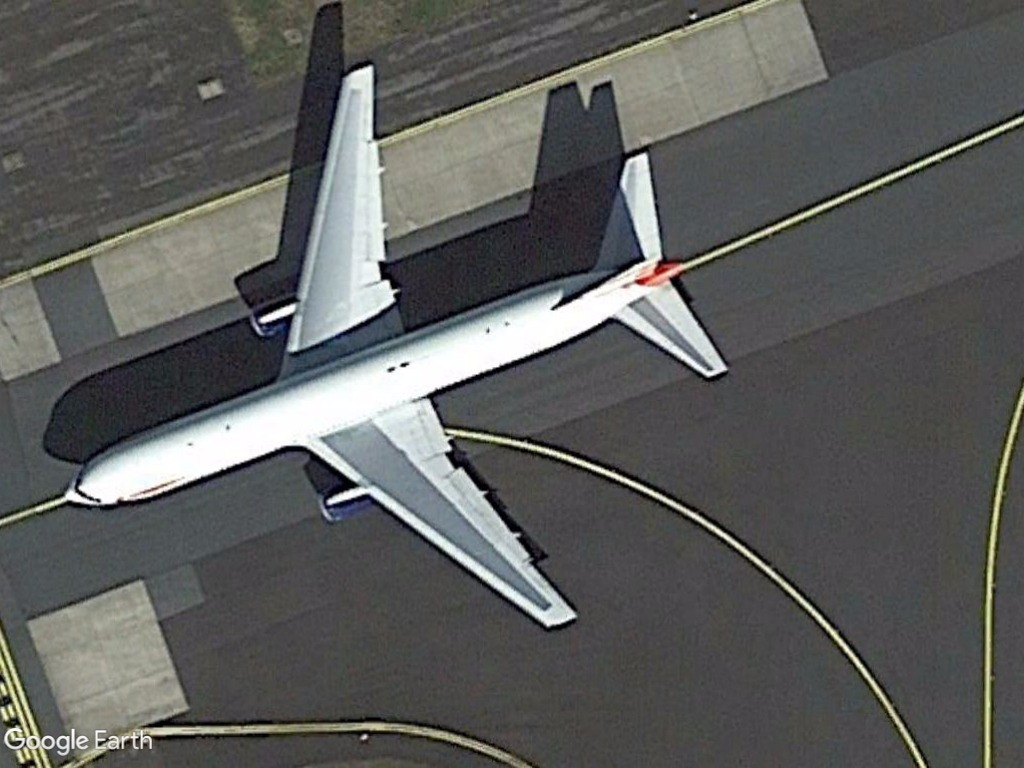airliner: (51, 54, 735, 639)
